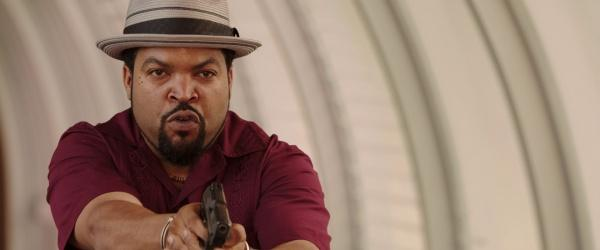Gun: (198, 180, 230, 250)
